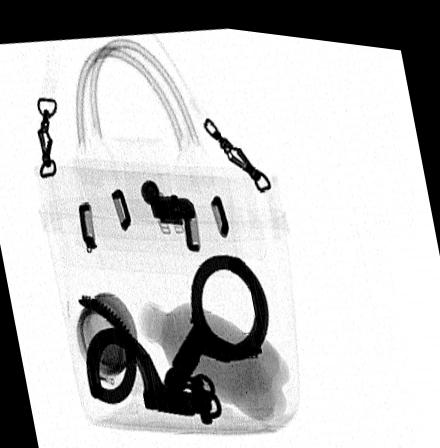HandCuffs: (76, 245, 272, 423)
